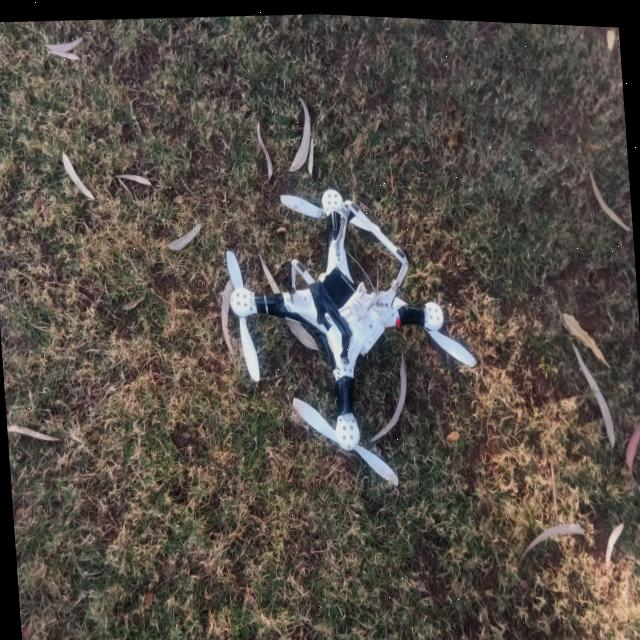drone: (194, 156, 498, 505)
